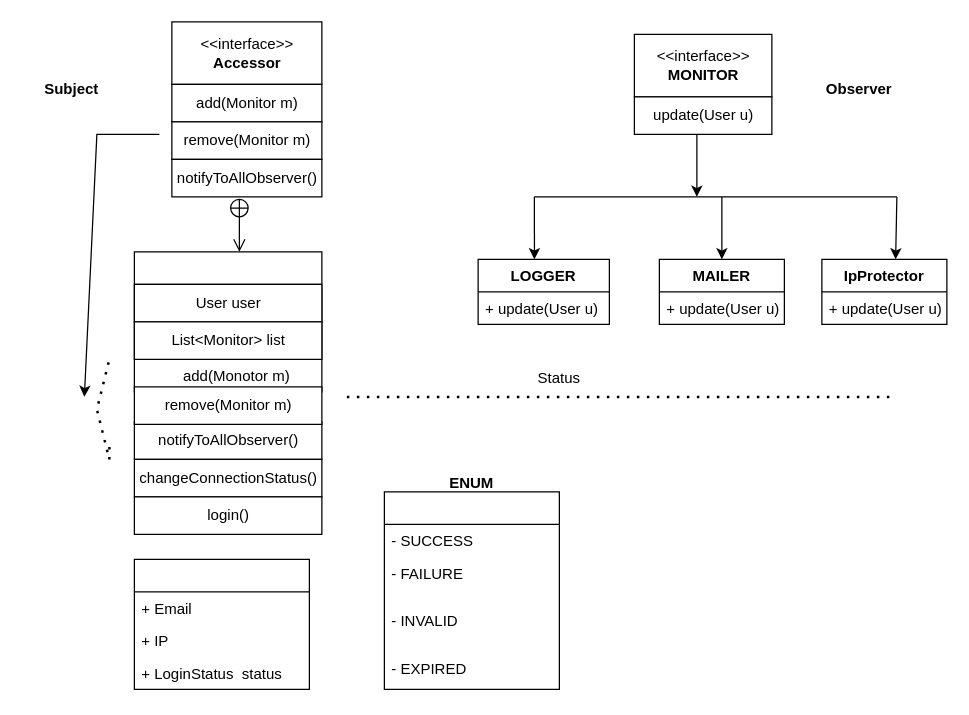
Some shapes in this 969 by 715 pixel diagram are drawn without their labels. The shapes that lost their labels are listed below. From the top down, each one's box as (x1, y1, x2, y2) in pixels, then its label:
(133, 251, 322, 392): SERVICE
(383, 491, 559, 689): LoginStatus
(133, 558, 309, 689): User
